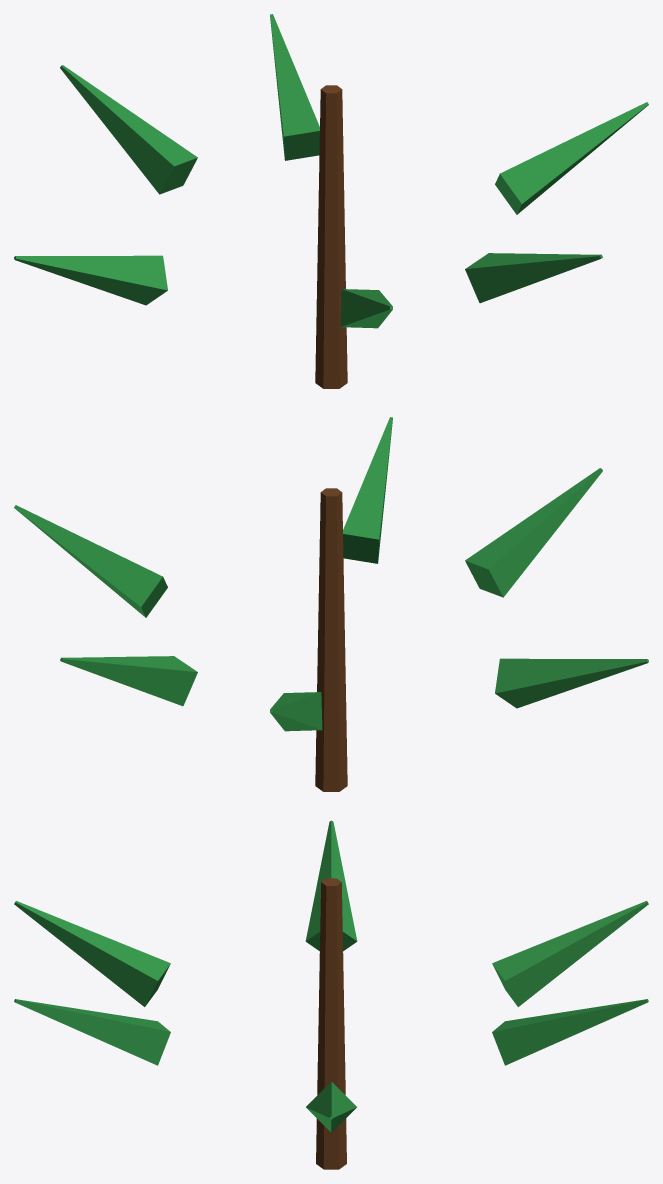
Rendered from palm_tree.glb.
3 views of the same model, one above another, from view 1: azimuth 30°, elevation 25°; view 2: azimuth 150°, elevation 25°; view 3: azimuth 270°, elevation 25° (orthographic). The views are drawn at different scales.
Parts seen in each view (by area): view 1: palm_tree; view 2: palm_tree; view 3: palm_tree.
Boxes of the visible parts, box(x1,y1,x2,y2) form: palm_tree: box(14, 14, 648, 388); palm_tree: box(14, 417, 648, 791); palm_tree: box(14, 820, 648, 1169).
Bounding box in the file's own units: 6.78 × 3 × 6.13.
